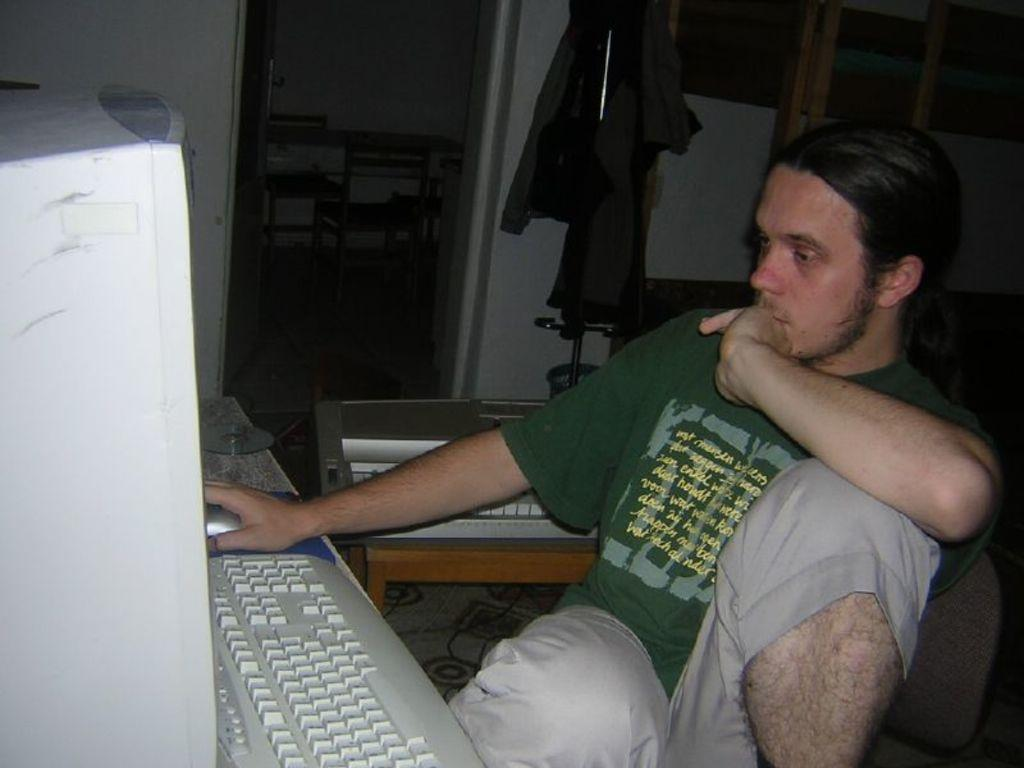Computer-keyboard: (209, 552, 485, 767)
